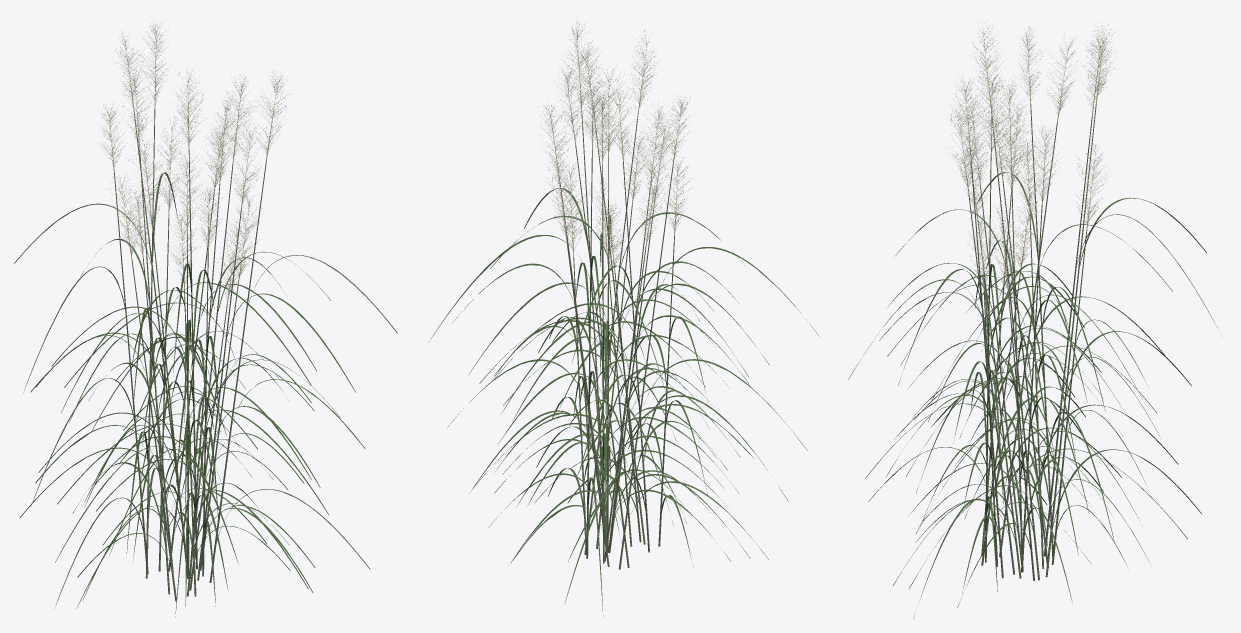
Rendered from saccharum-4.glb.
3 views of the same model, side by side, from view 1: azimuth 30°, elevation 25°; view 2: azimuth 150°, elevation 25°; view 3: azimuth 270°, elevation 25° (orthographic). The views are drawn at different scales.
Visible parts, largest first — view 1: grass-leaf, stem, panicle, silky-hairs, rachis; view 2: grass-leaf, stem, panicle, silky-hairs, rachis; view 3: grass-leaf, stem, panicle, silky-hairs, rachis.
Boxes of the visible parts, box(x1,y1,x2,y2) form: grass-leaf: box(14, 172, 397, 616); stem: box(114, 109, 266, 601); panicle: box(102, 25, 286, 299); silky-hairs: box(100, 18, 287, 295); rachis: box(109, 40, 276, 304); grass-leaf: box(428, 188, 819, 616); stem: box(560, 114, 674, 569); panicle: box(541, 23, 688, 268); silky-hairs: box(539, 17, 692, 261); rachis: box(551, 46, 680, 272); grass-leaf: box(848, 172, 1219, 618); stem: box(968, 104, 1096, 580); panicle: box(949, 23, 1113, 291); silky-hairs: box(945, 22, 1114, 284); rachis: box(960, 40, 1103, 296).
Size of the model in its own units: 1.46 by 2.19 by 1.37.
Materials: 4 (2 with a texture image).
